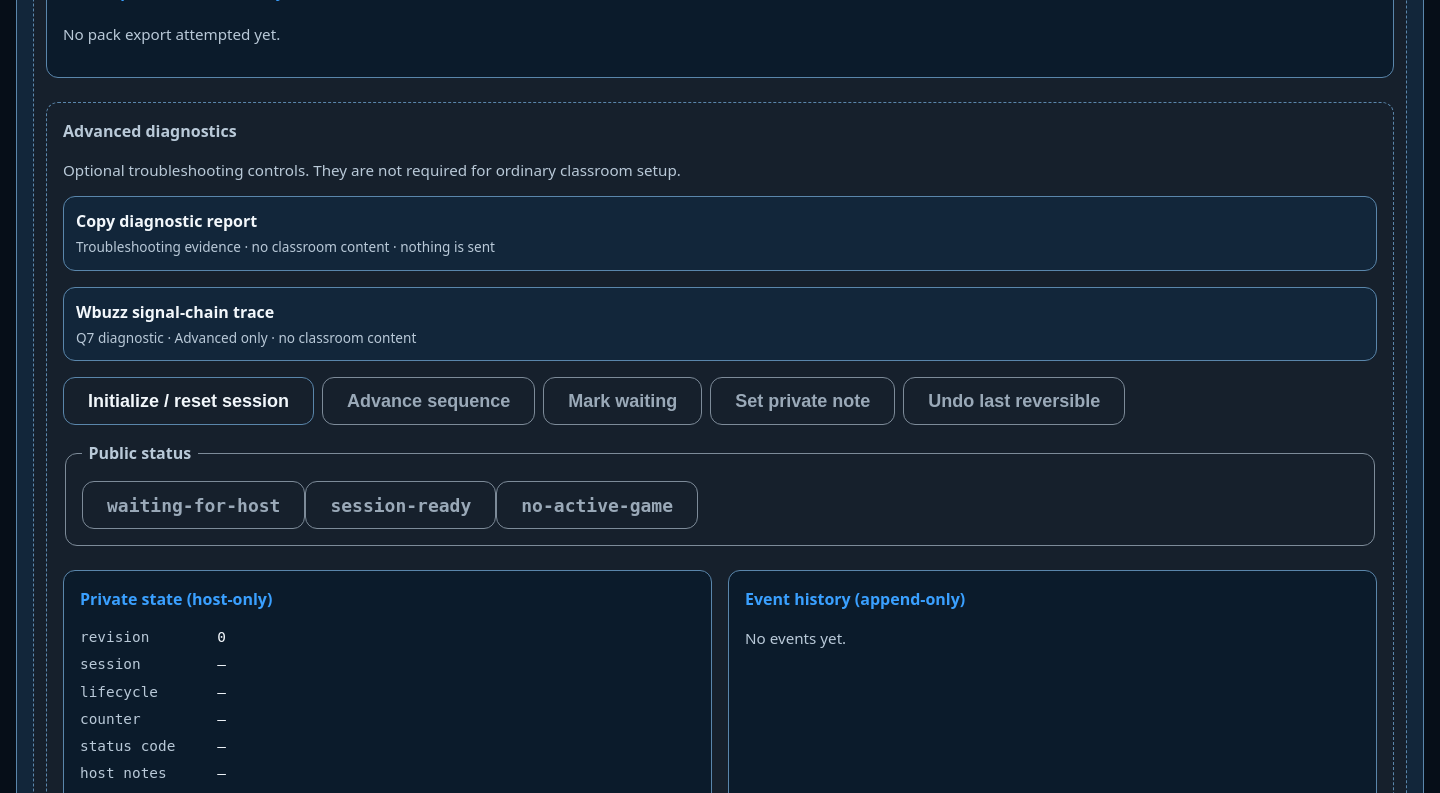
Test case: Host at 0ms storage-open delay, after boot › makes Initialize / reset session actionable, with one durable effect per activation
(page scrolled)
Click the button "Initialize / reset session".
click(189, 401)  # box x1=63 y1=377 x2=314 y2=425
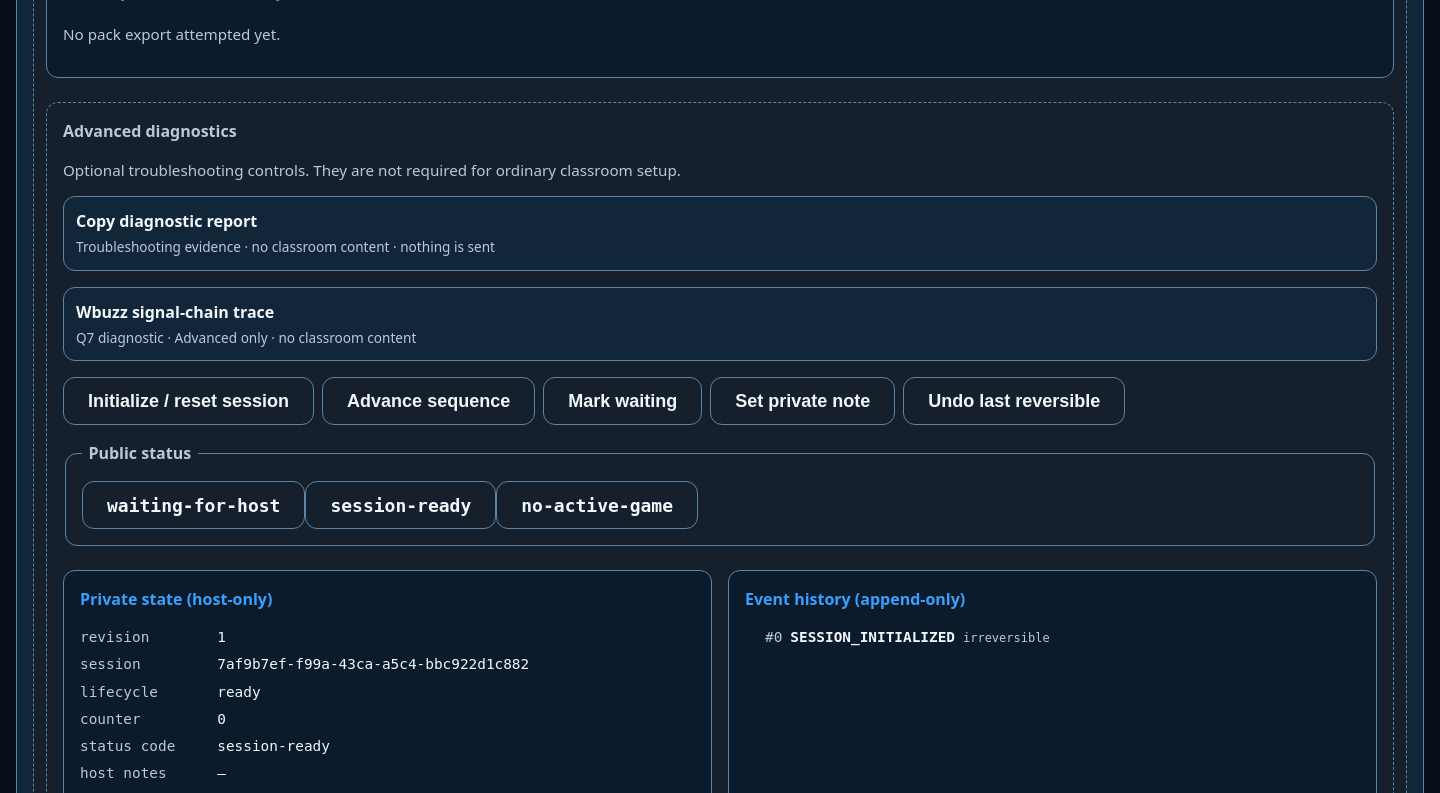
Now the element with test id "private-session" no longer shows "—"
Now the text with test id "private-revision" reads "1", box x1=217 y1=629 x2=226 y2=645
